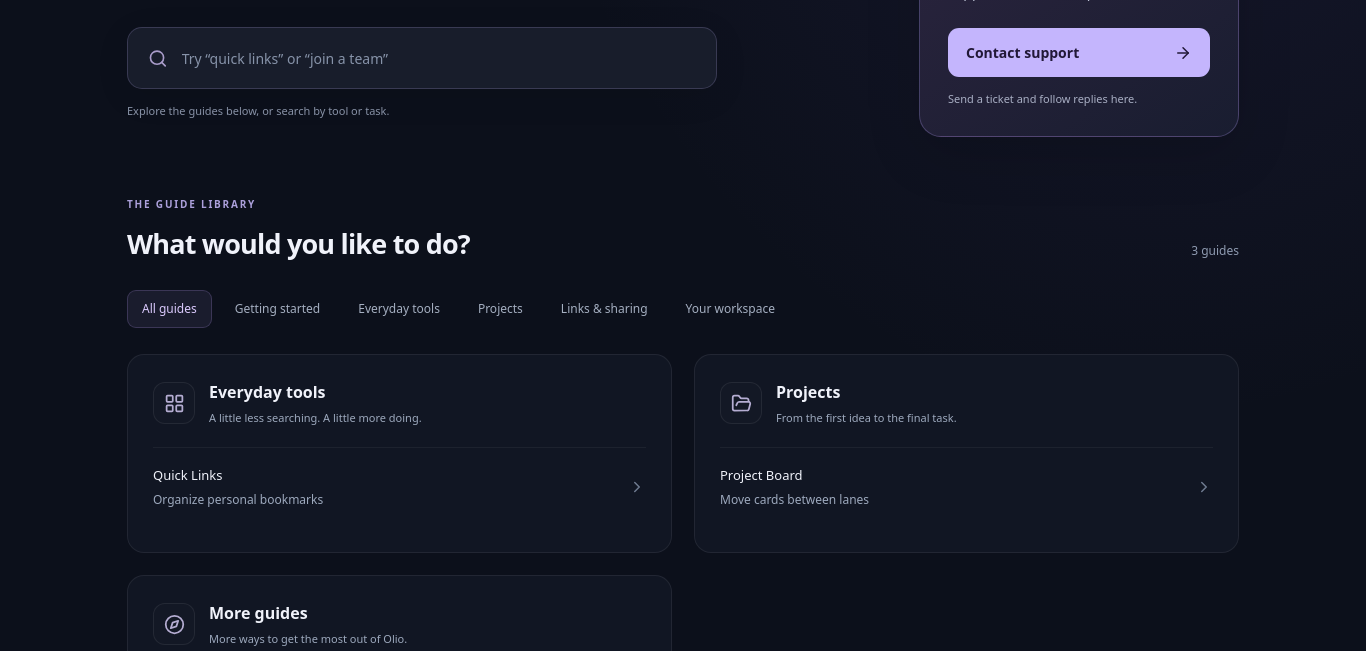
browses every guide, filters topics, and searches visible results
(page scrolled)
Click the button "Projects" at (500, 309), box x1=463 y1=290 x2=538 y2=328
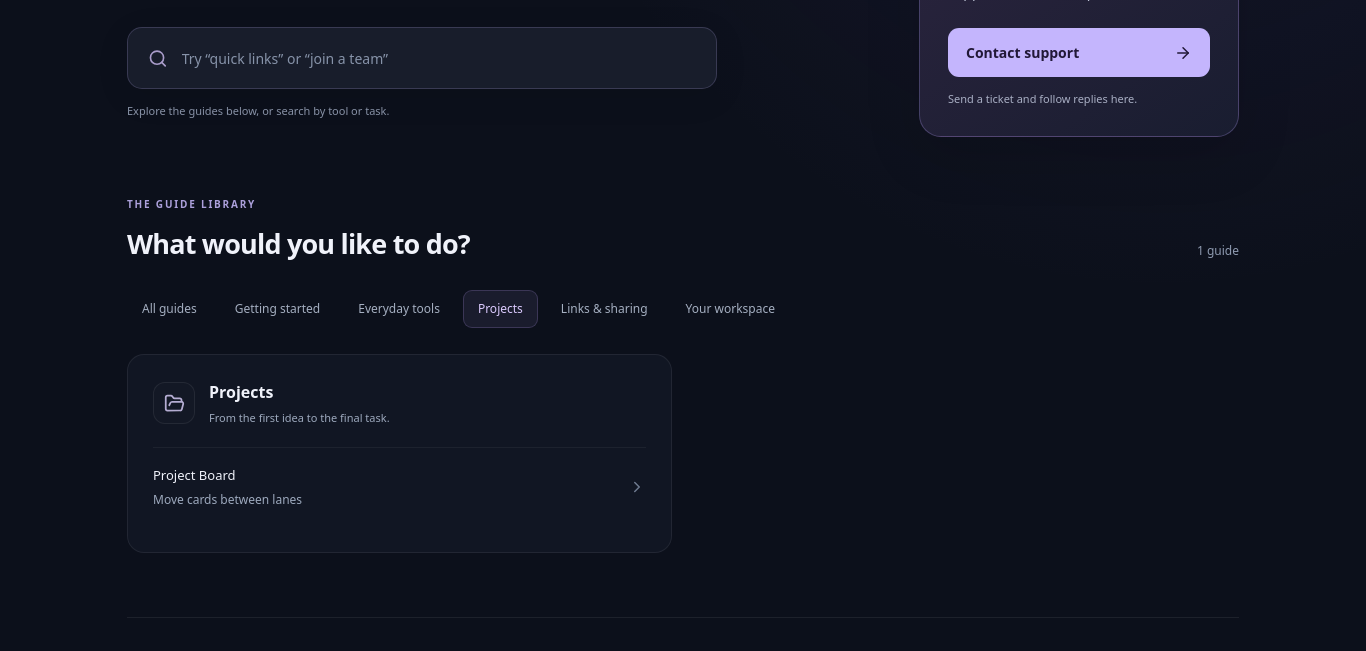
Expected: the link "Project Board Move cards between lanes" is shown, x1=153 y1=447 x2=646 y2=527
Type "personal bookmarks" into the field named "Search help articles" at (439, 58), box x1=182 y1=29 x2=696 y2=88
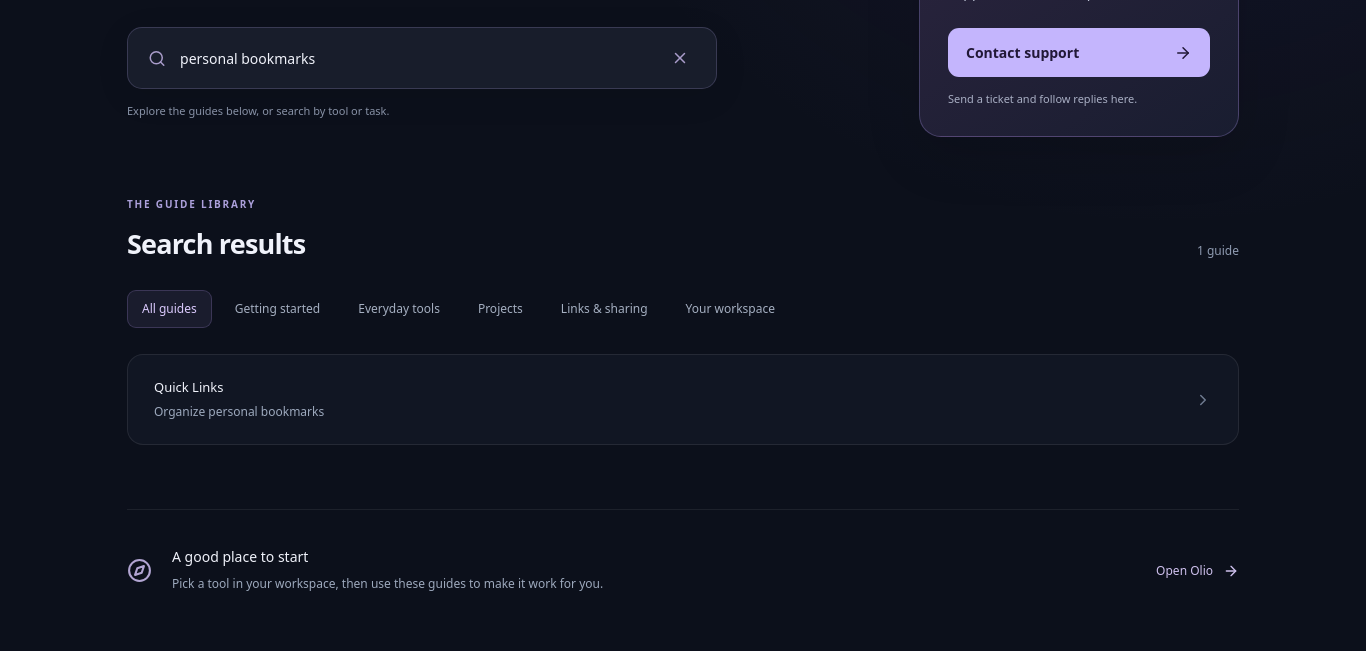
Expected: the link "Quick Links Organize personal bookmarks" is shown, x1=154 y1=378 x2=1212 y2=420
Expected: the link "Project Board" is gone
Replace the text in the field with "no such guide" at (415, 58), box x1=180 y1=29 x2=650 y2=88
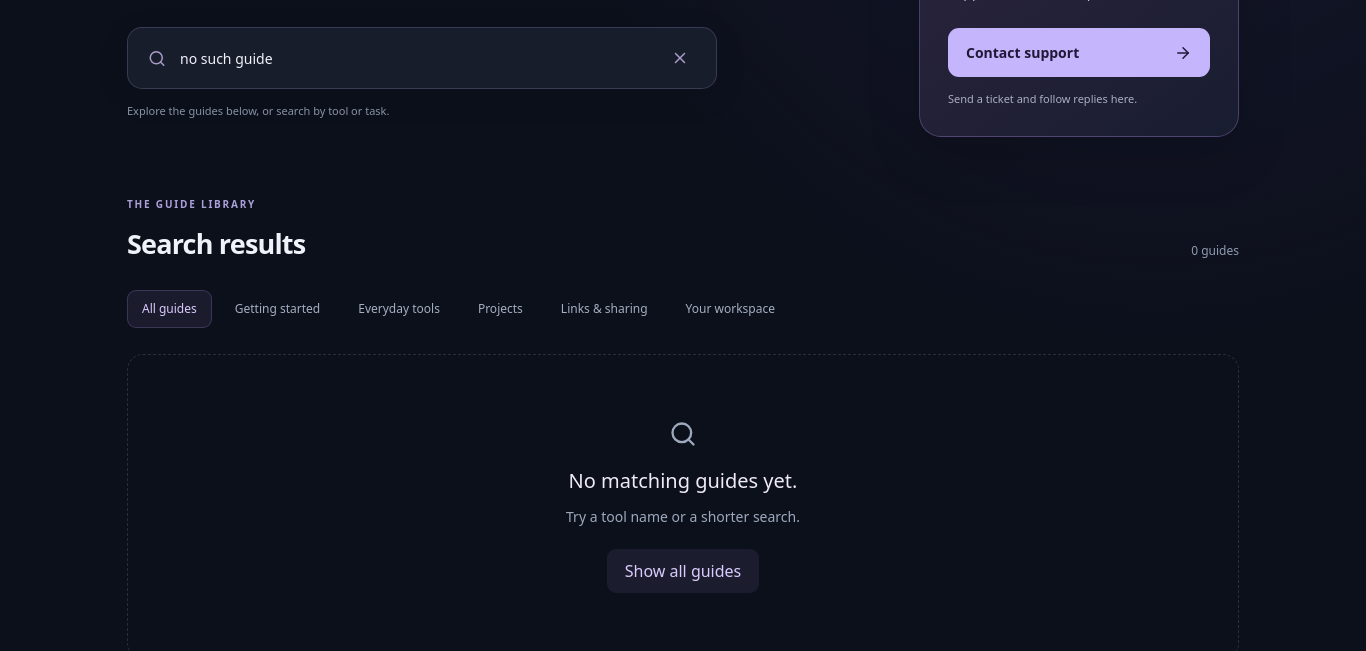
Expected: the heading "No matching guides yet." is shown, x1=569 y1=467 x2=798 y2=494
Click the button "Show all guides" at (683, 571), box x1=607 y1=549 x2=759 y2=593
(page scrolled)
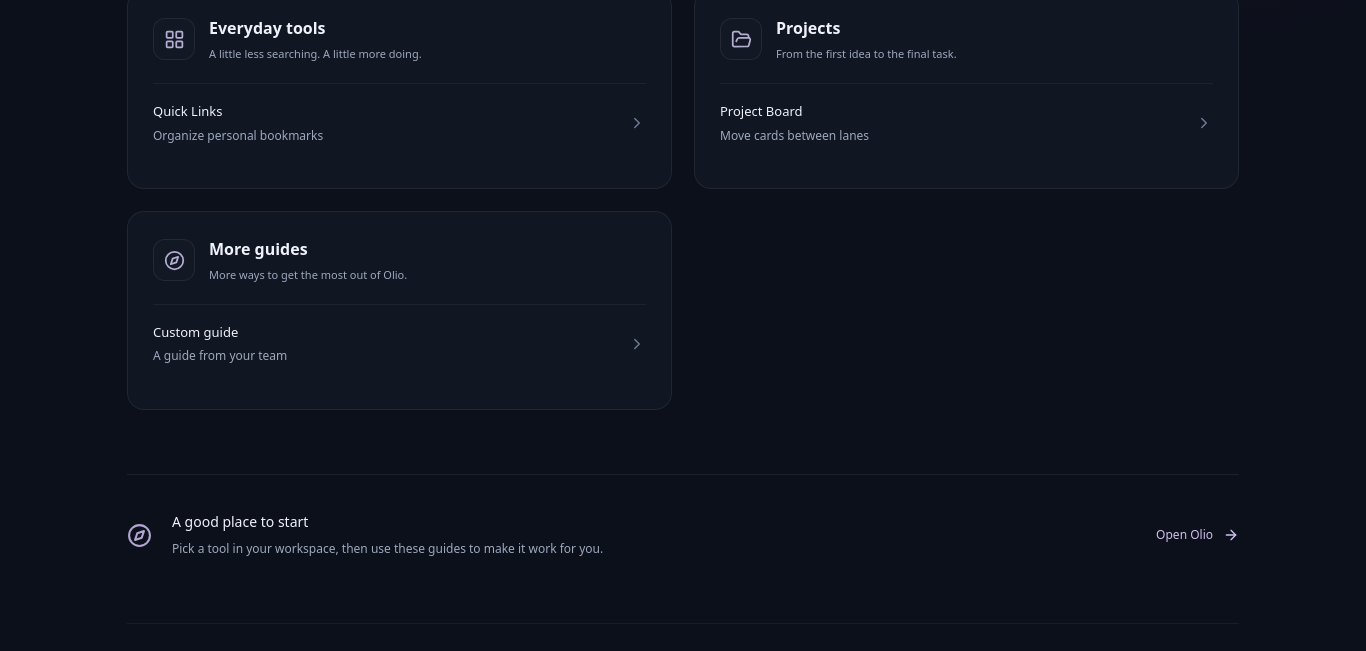
Expected: the link "Custom guide A guide from your team" is shown, x1=153 y1=304 x2=646 y2=384
